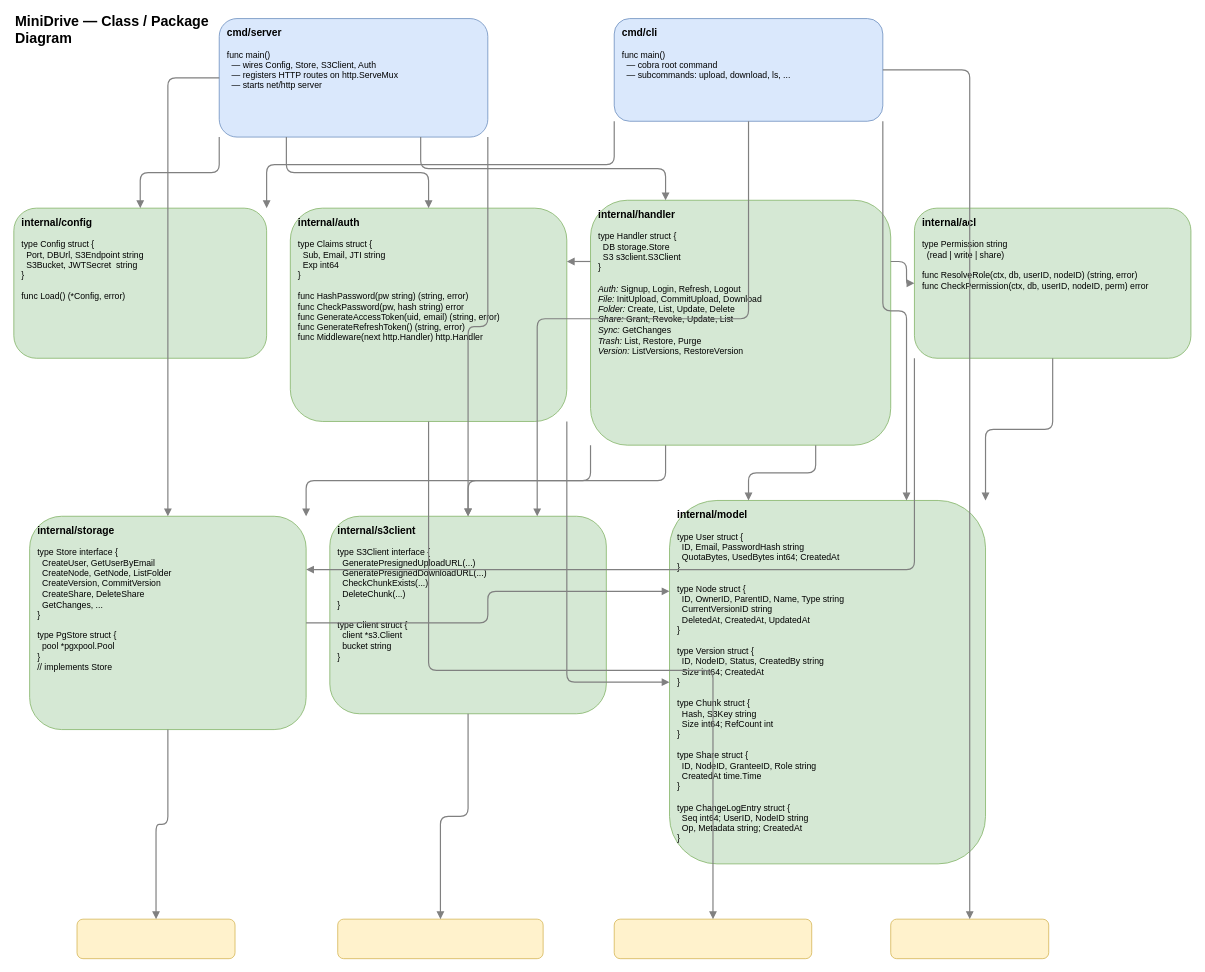
Image size: 1205x972. Some labels were removed from this diagram. The shapes that lost their labels are listed below. From the top down, each one's centre as x and y in pixels, then its label:
At [155,938]: "pgx PostgreSQL driver".
At [440,938]: "aws-sdk-go-v2 S3 / MinIO client".
At [712,938]: "golang-jwt/jwt JWT tokens".
At [969,938]: "cobra CLI framework".
